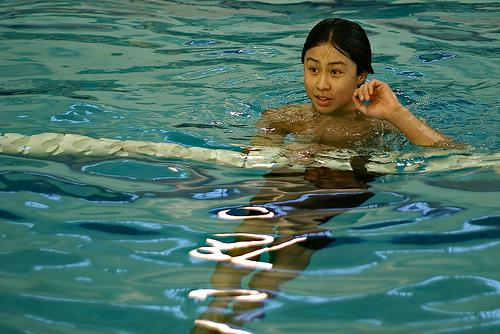human: (242, 16, 466, 224)
